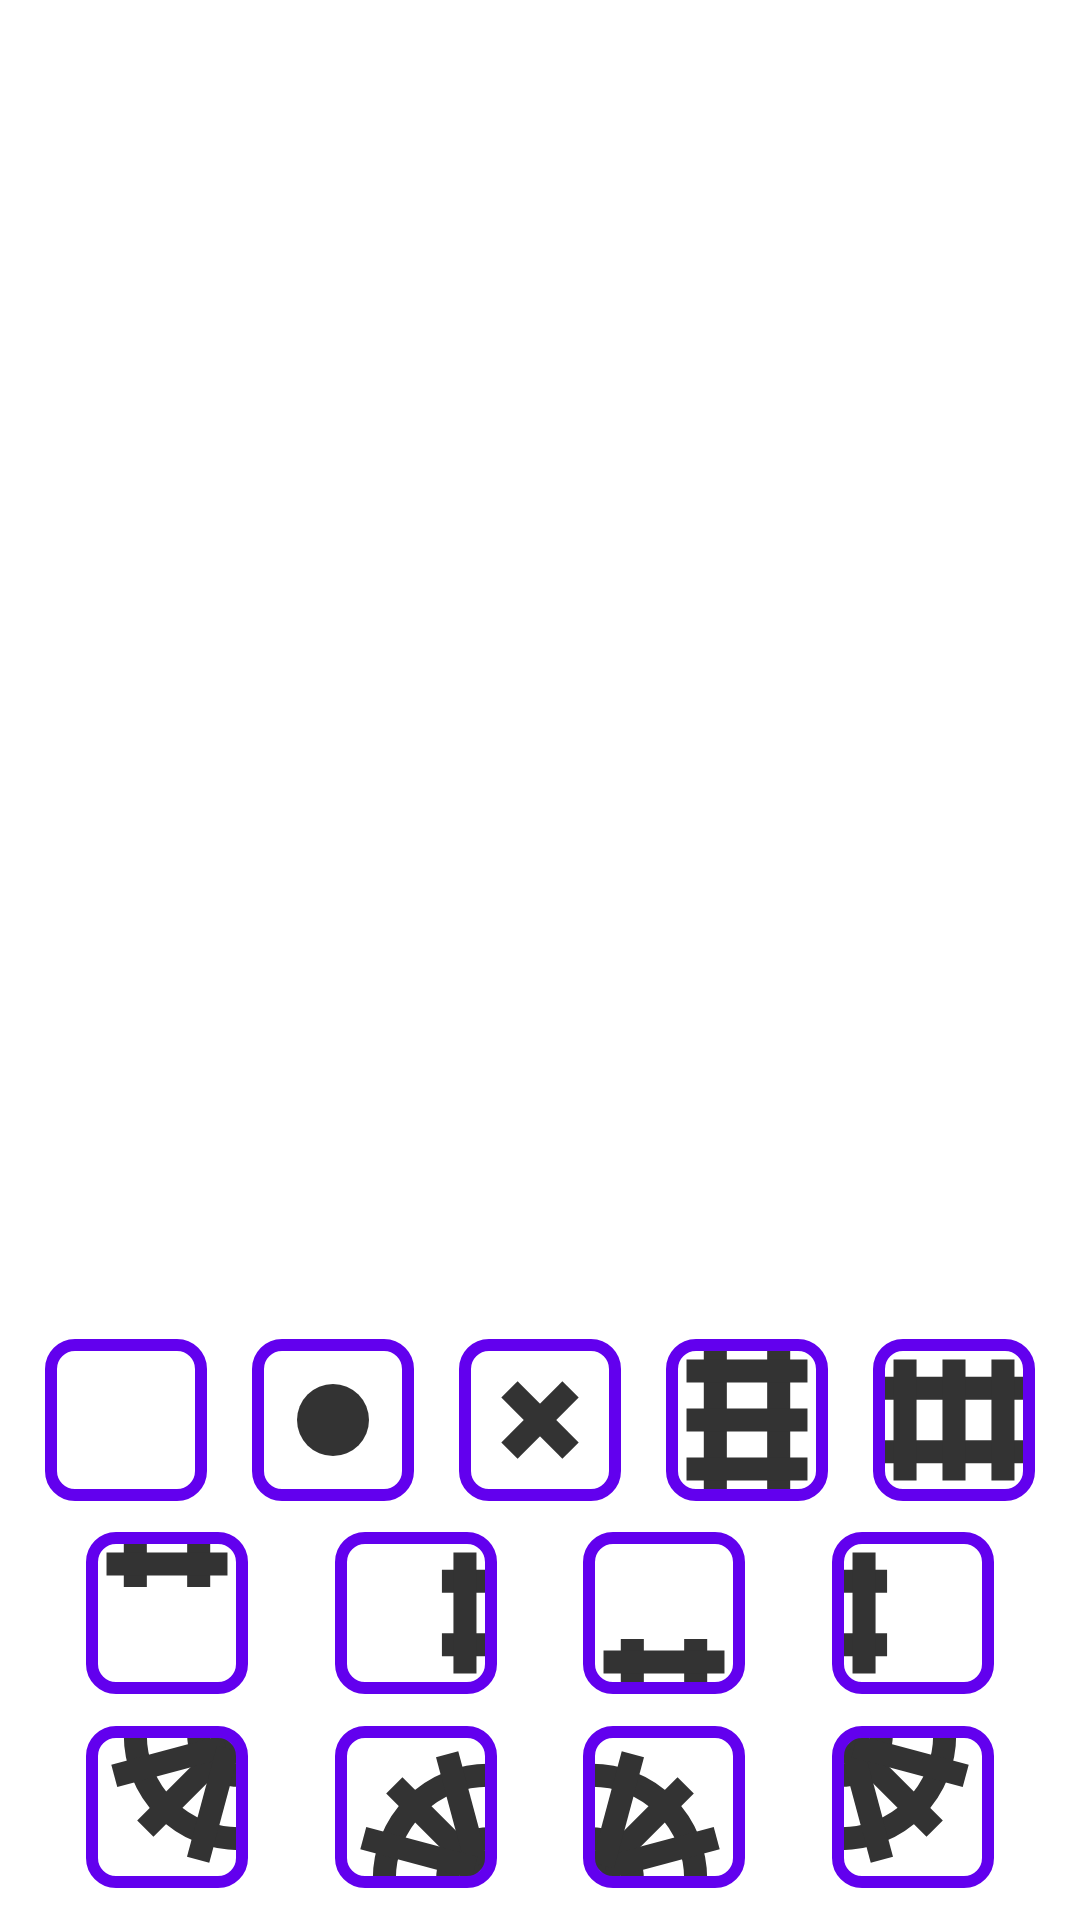

Named icons in this screenshot (1080×1920) and their bounding boxes, bbox=(x1, y1, x2, y2):
corner track ne: bbox=(86, 1726, 248, 1888)
corner track nw: bbox=(832, 1726, 994, 1888)
corner track se: bbox=(335, 1726, 497, 1888)
corner track sw: bbox=(583, 1726, 745, 1888)
east track: bbox=(335, 1532, 497, 1694)
no track: bbox=(459, 1339, 621, 1501)
north track: bbox=(86, 1532, 248, 1694)
south track: bbox=(583, 1532, 745, 1694)
straight track horizontal: bbox=(873, 1339, 1035, 1501)
straight track vertical: bbox=(666, 1339, 828, 1501)
west track: bbox=(832, 1532, 994, 1694)
yes track: bbox=(252, 1339, 414, 1501)
